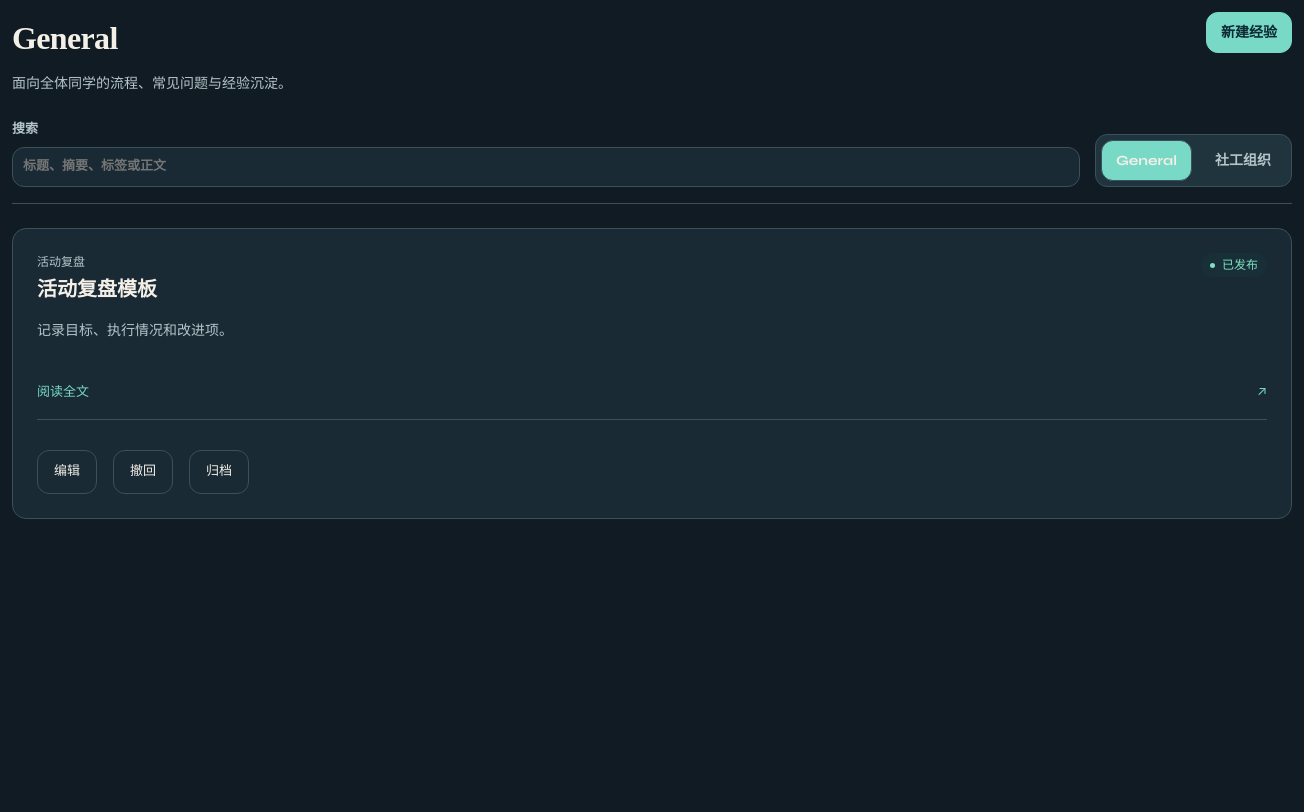
KnowledgePage › shows the server error and preserves the visible published state when archiving fails
Expected: the text "已发布" is shown, left=1201, top=253, right=1267, bottom=277
Click the button "归档".
click(219, 472)  # box left=189, top=450, right=249, bottom=494
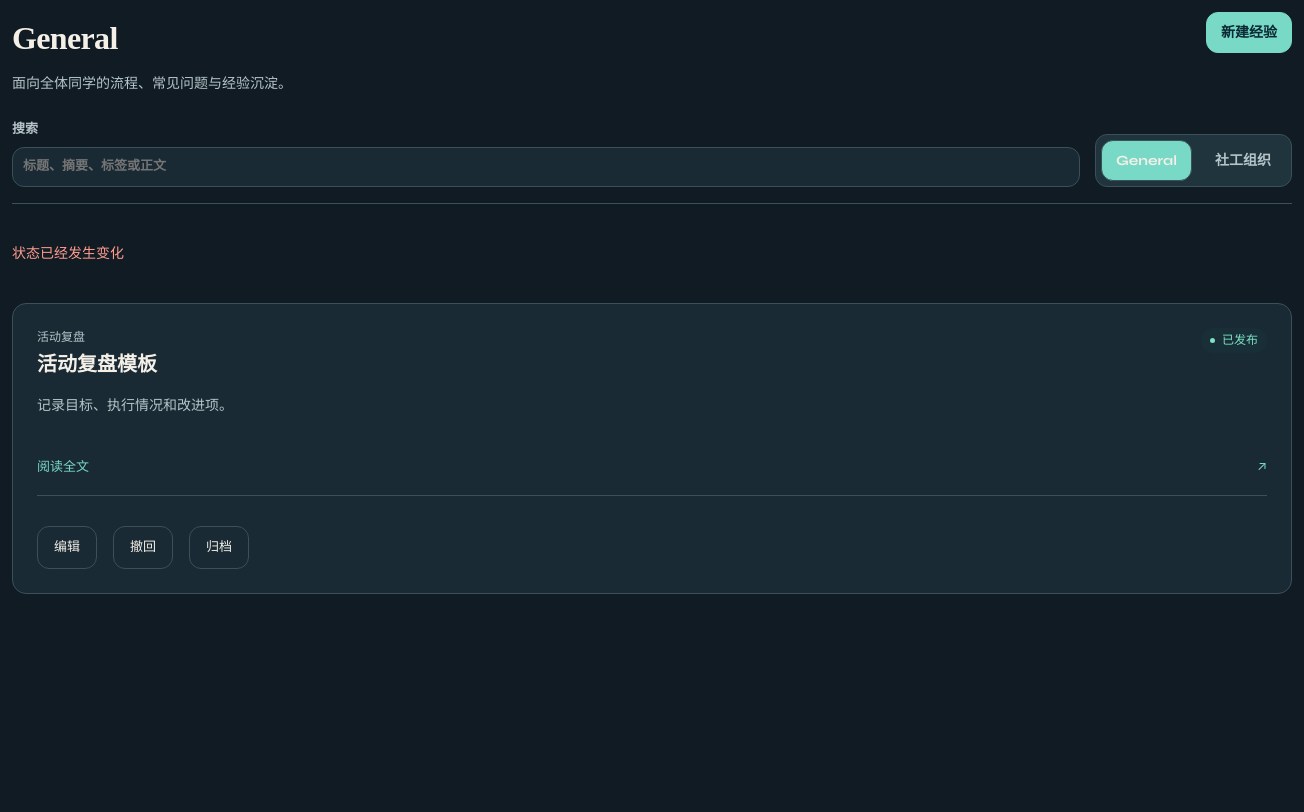
Expected: the text "已发布" is shown, left=1201, top=328, right=1267, bottom=352
Now the message reads "状态已经发生变化", box left=12, top=245, right=124, bottom=262
